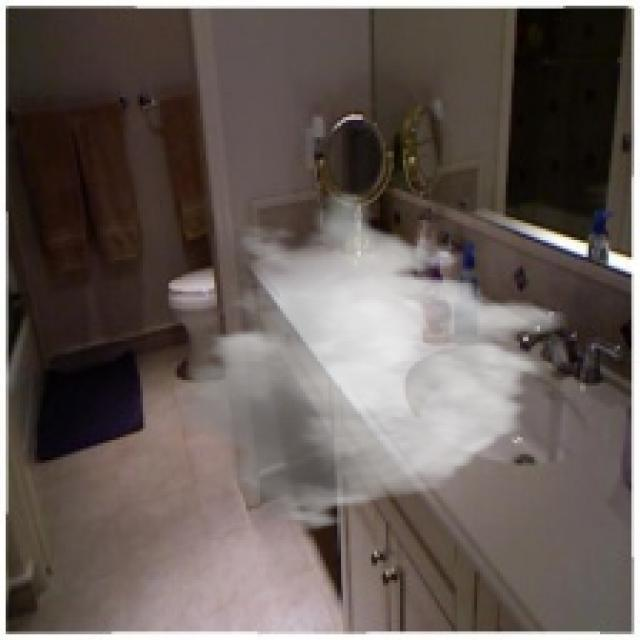Smoke: (160, 192, 569, 534)
